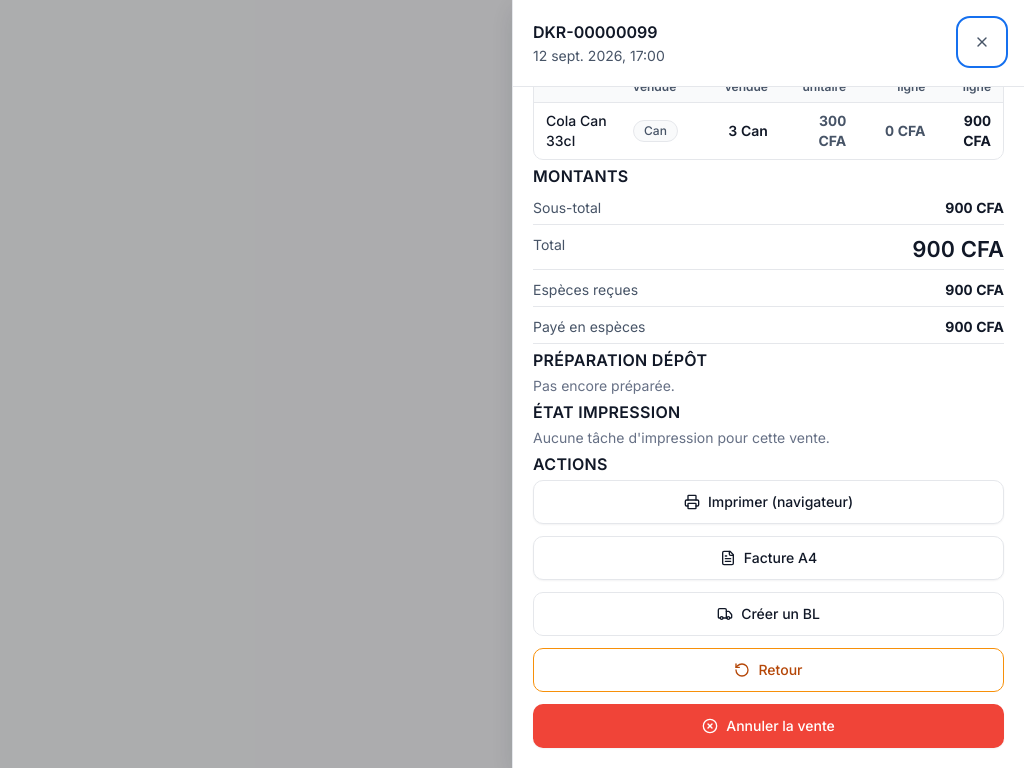
Test case: SaleDetailDrawer › opens ReturnModal from the Return button
(page scrolled)
Click the button "Retour": [768, 670] box left=533, top=648, right=1004, bottom=692
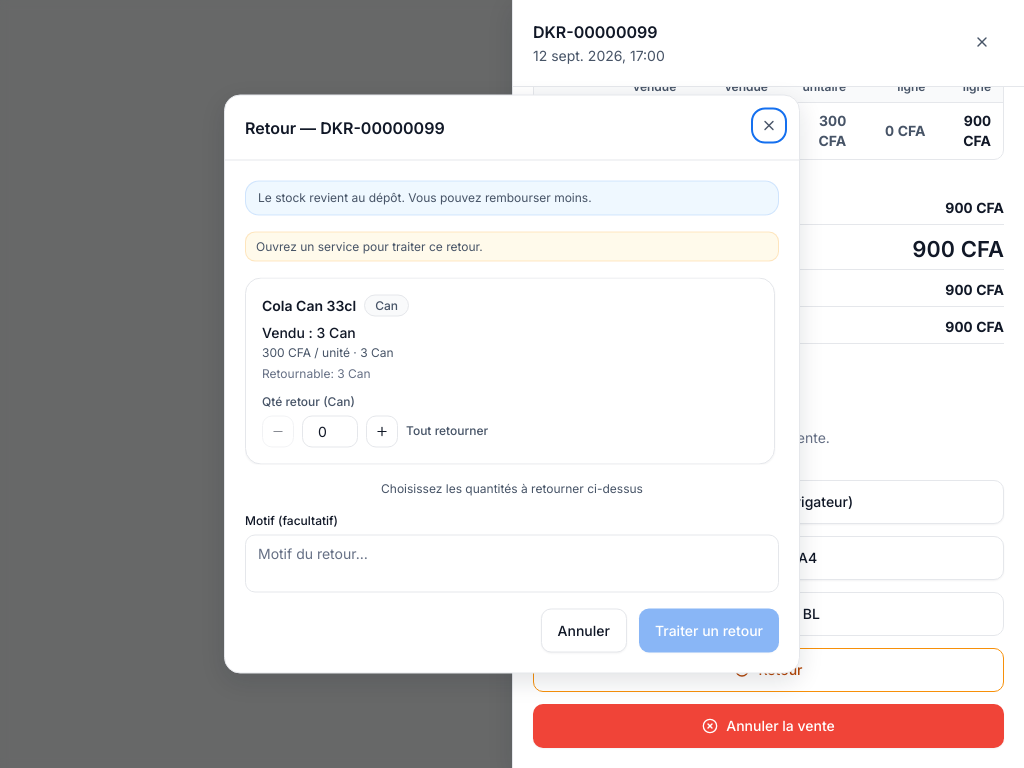
Result: the text "Retour — DKR-00000099" is shown at left=245, top=116, right=445, bottom=140
